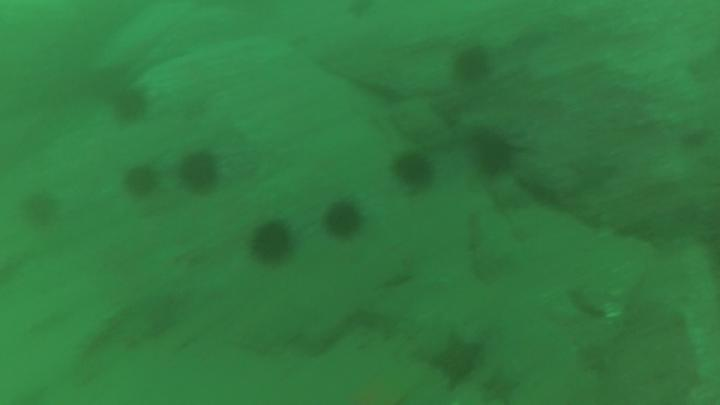echinus: (244, 214, 302, 270), (467, 124, 515, 177), (114, 155, 164, 203), (387, 148, 440, 193), (322, 195, 368, 245), (107, 82, 155, 128), (179, 149, 218, 193), (454, 44, 493, 84)
starfish: (431, 332, 490, 392), (481, 367, 523, 404)
